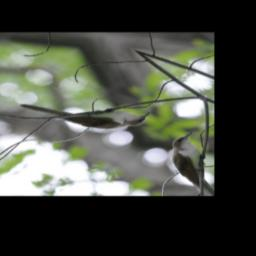Cuckoo: (15, 69, 157, 152)
